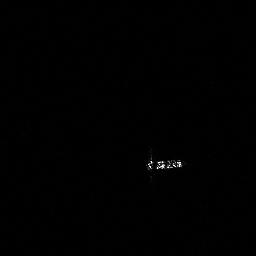ship: (145, 152, 183, 178)
